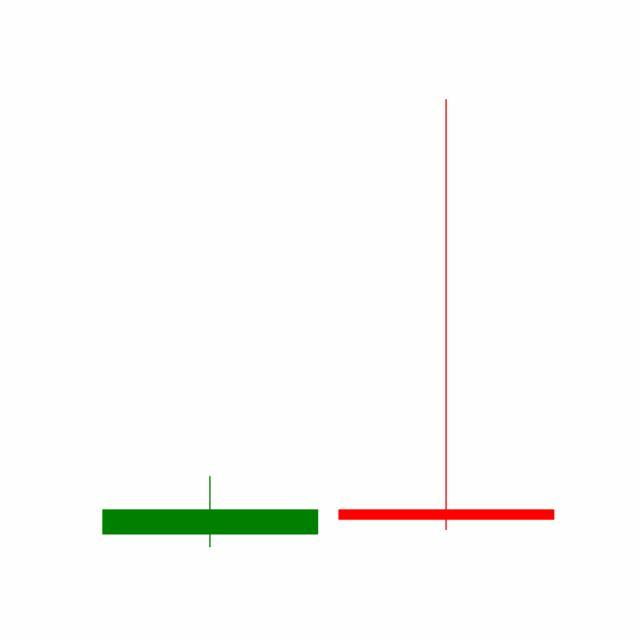Gravestone Doji: (328, 95, 566, 536)
